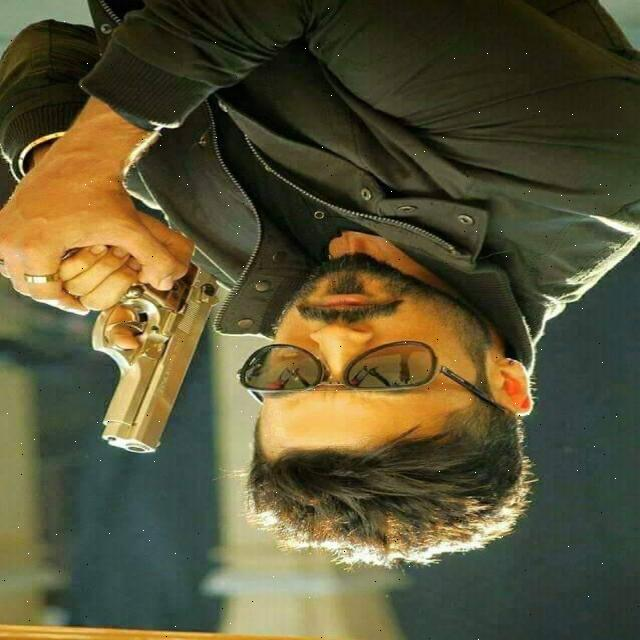gun: (25, 211, 234, 477)
